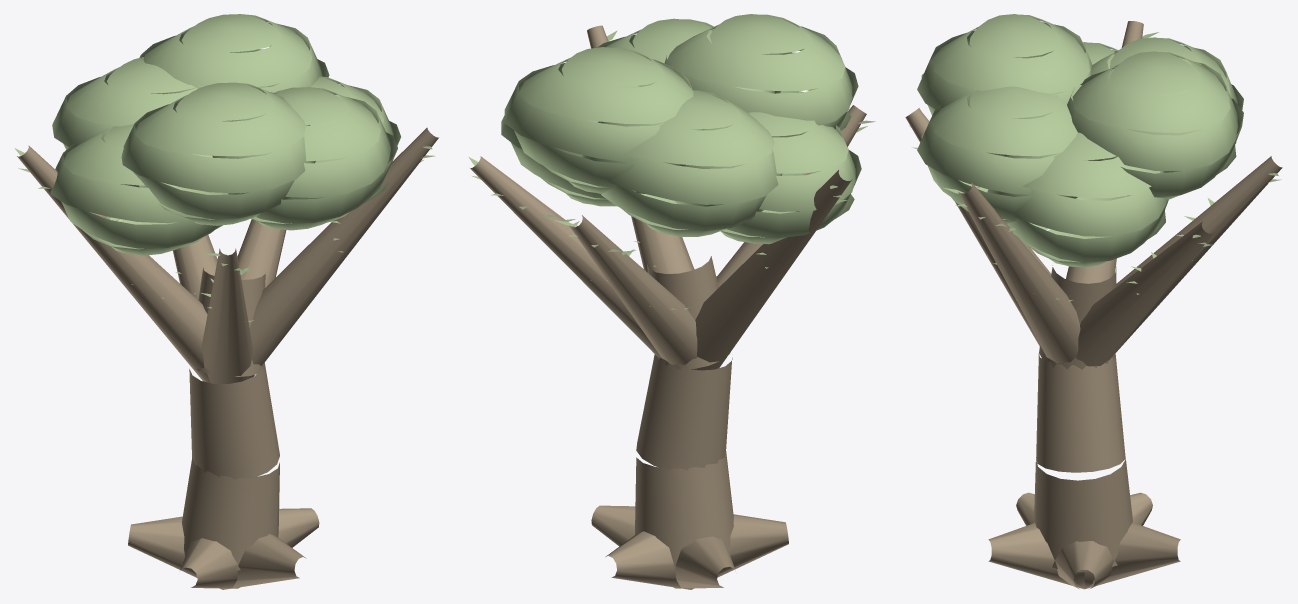
Rendered from olea-europaea.glb.
The picture shows the model from 3 angles, left to right: view 1: azimuth 30°, elevation 25°; view 2: azimuth 150°, elevation 25°; view 3: azimuth 270°, elevation 25°; orthographic projection. The views are drawn at different scales.
Parts seen in each view (by area): view 1: olea-europaea; view 2: olea-europaea; view 3: olea-europaea.
Boxes of the visible parts, x1,y1,x2,y2 form: olea-europaea: [14, 14, 438, 589]; olea-europaea: [468, 14, 875, 589]; olea-europaea: [905, 14, 1282, 589].
Bounding box in the file's own units: 2.27 × 3.21 × 2.05.
